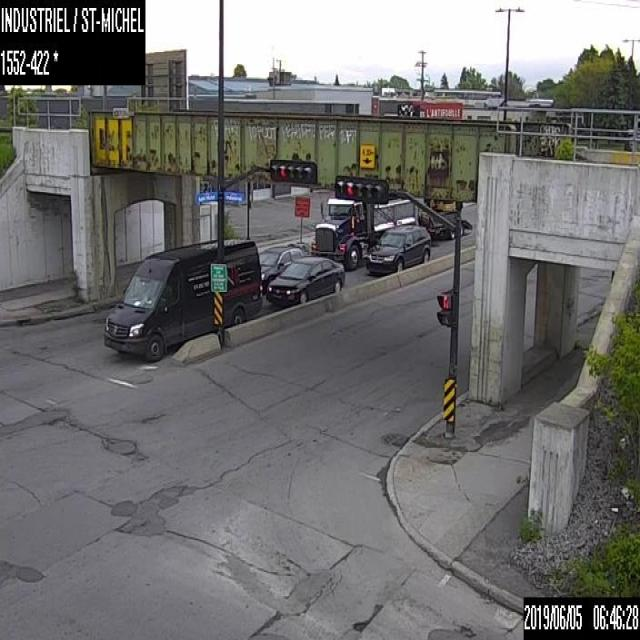construction: (293, 196, 309, 245)
vehicle: (102, 238, 262, 362), (309, 187, 472, 269), (266, 255, 344, 307), (366, 224, 430, 273), (258, 246, 307, 294)
